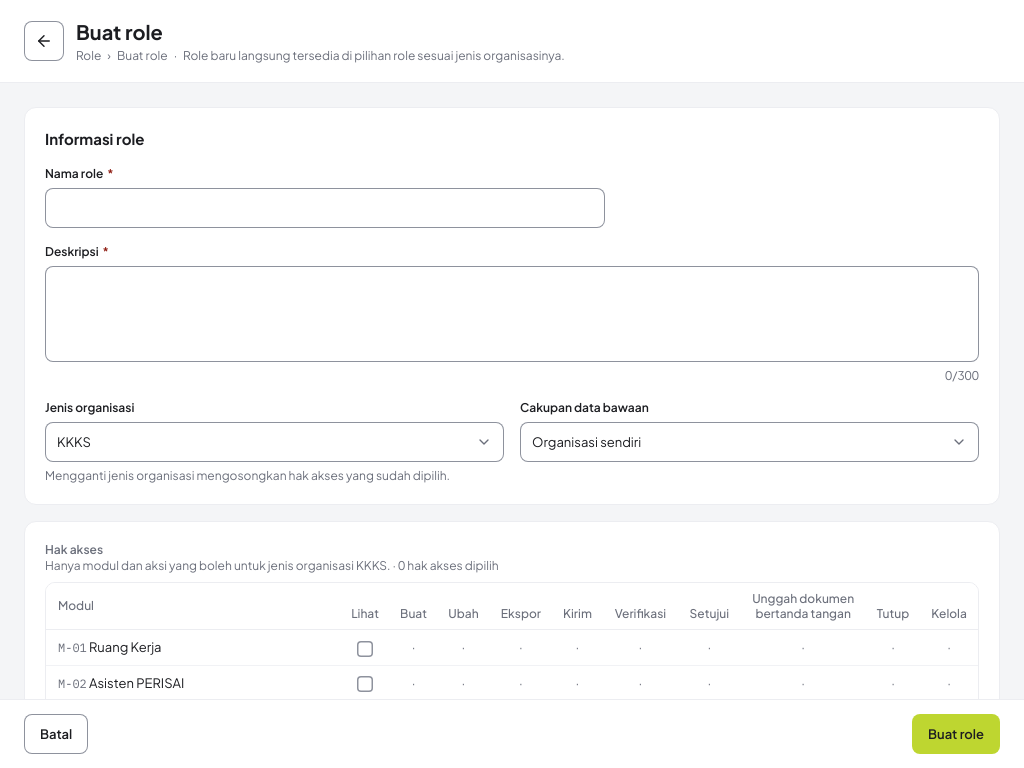
Test: Buat role & ubah hak akses (FR-KR-09, -09f) › halaman Buat role: jejak lokasi, tombol kembali, validasi, hak akses mengikuti jenis organisasi
Expected: the heading "Buat role" is shown, [76, 18, 163, 46]
Type "Analis KKKS" into the field labelled "Nama role*" at {"x": 325, "y": 208}, box [45, 188, 605, 228]
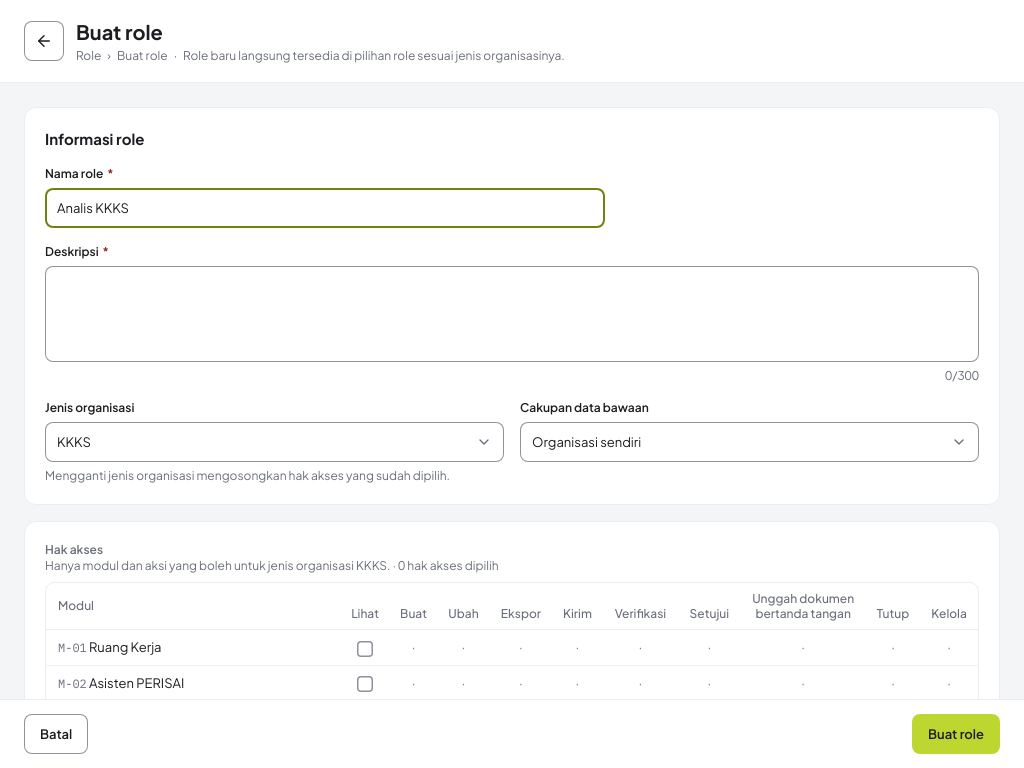
Type "Menganalisis laporan organisasinya" into the text box labelled "Deskripsi*" at {"x": 512, "y": 314}, box [45, 266, 979, 362]
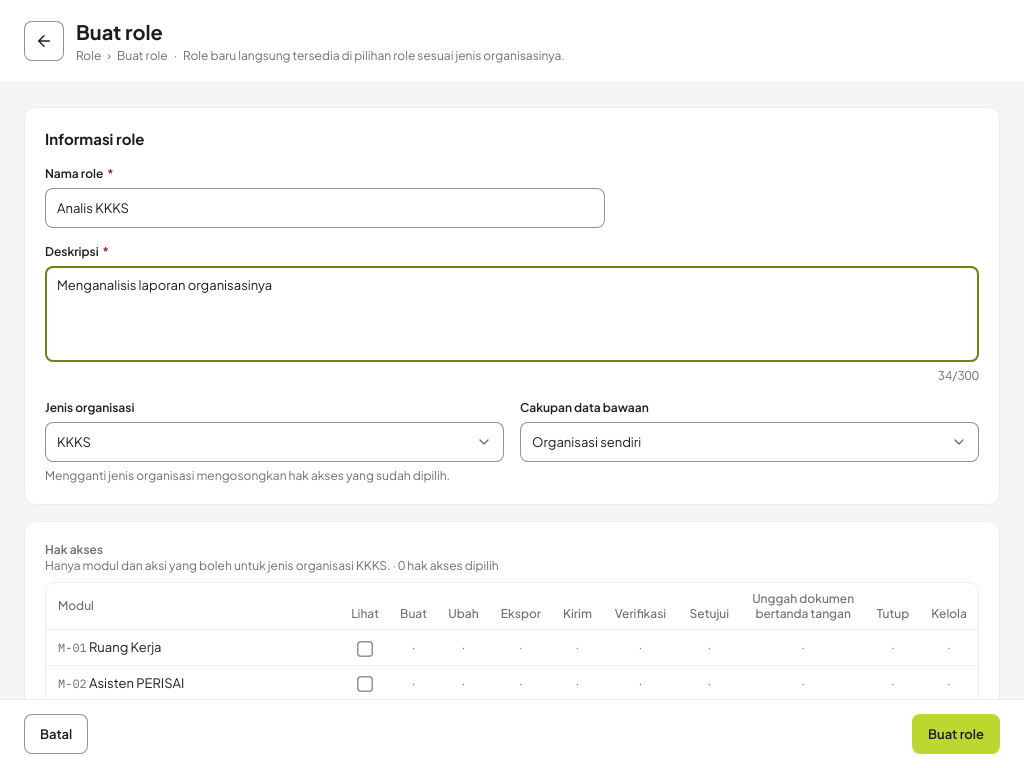
Click the button "Buat role" at {"x": 956, "y": 734}, box [912, 714, 1000, 754]
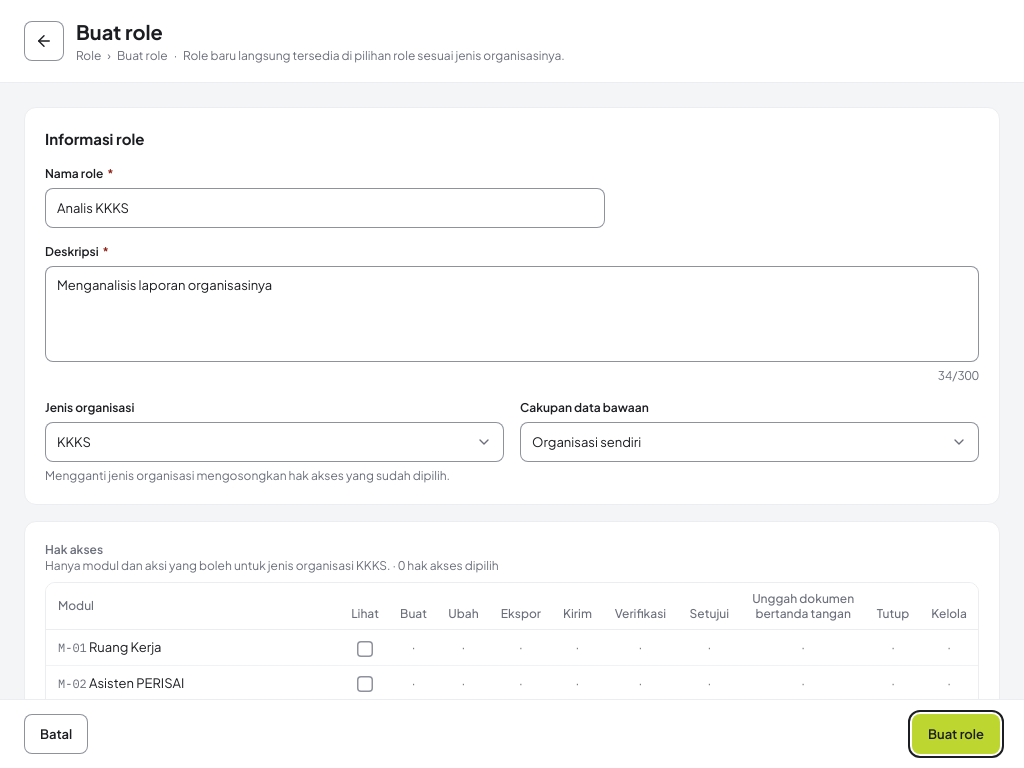
Click the checkbox named "Lihat" at {"x": 365, "y": 648}, box [357, 640, 373, 656]
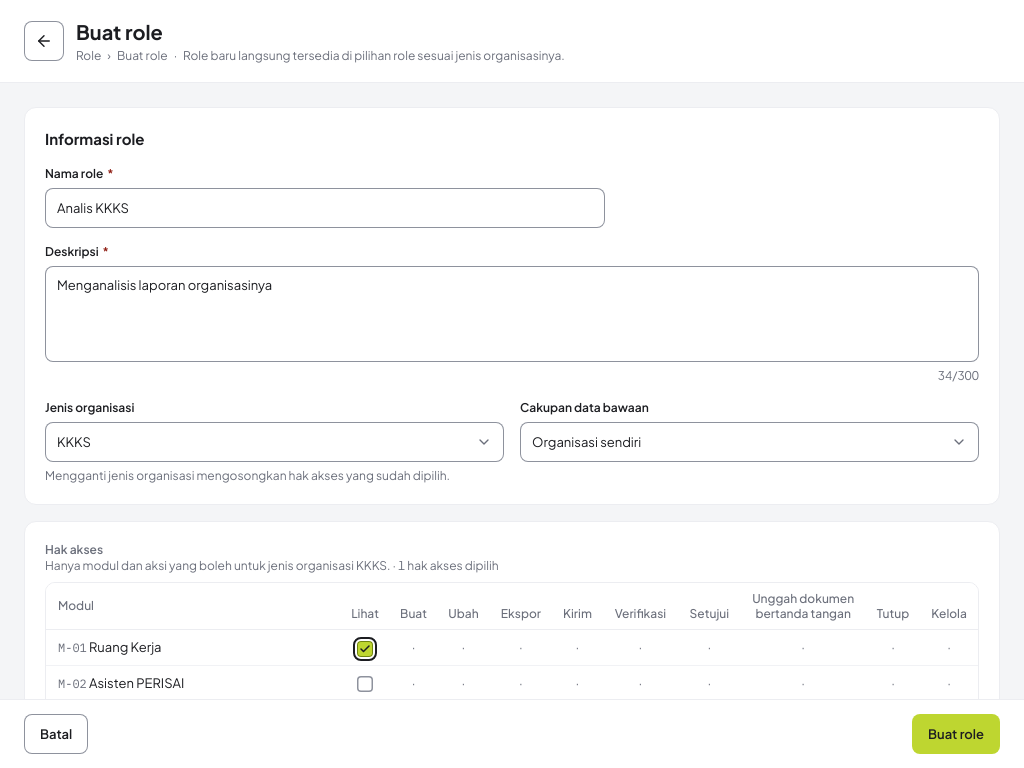
Expected: the text "1 hak akses dipilih" is shown, [398, 558, 499, 573]
